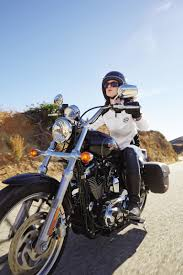helmet: (95, 67, 132, 103)
